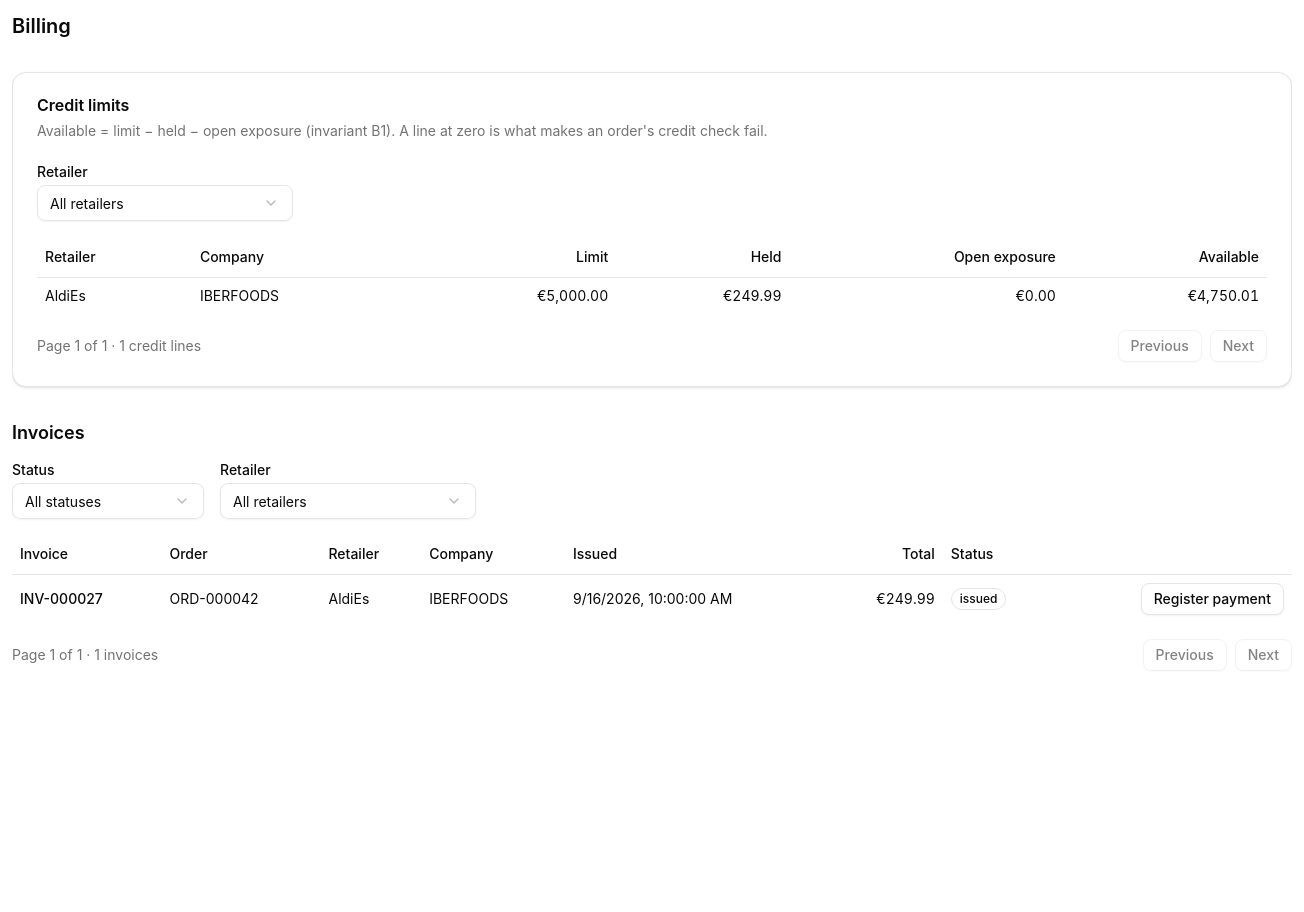
Test: BillingView — Register payment (R47/R48) › an accepted payment and a duplicate replay are rendered DIFFERENTLY, each saying what happened
Click the button with test id "register-payment-button": (1212, 599) x1=1141 y1=583 x2=1284 y2=615
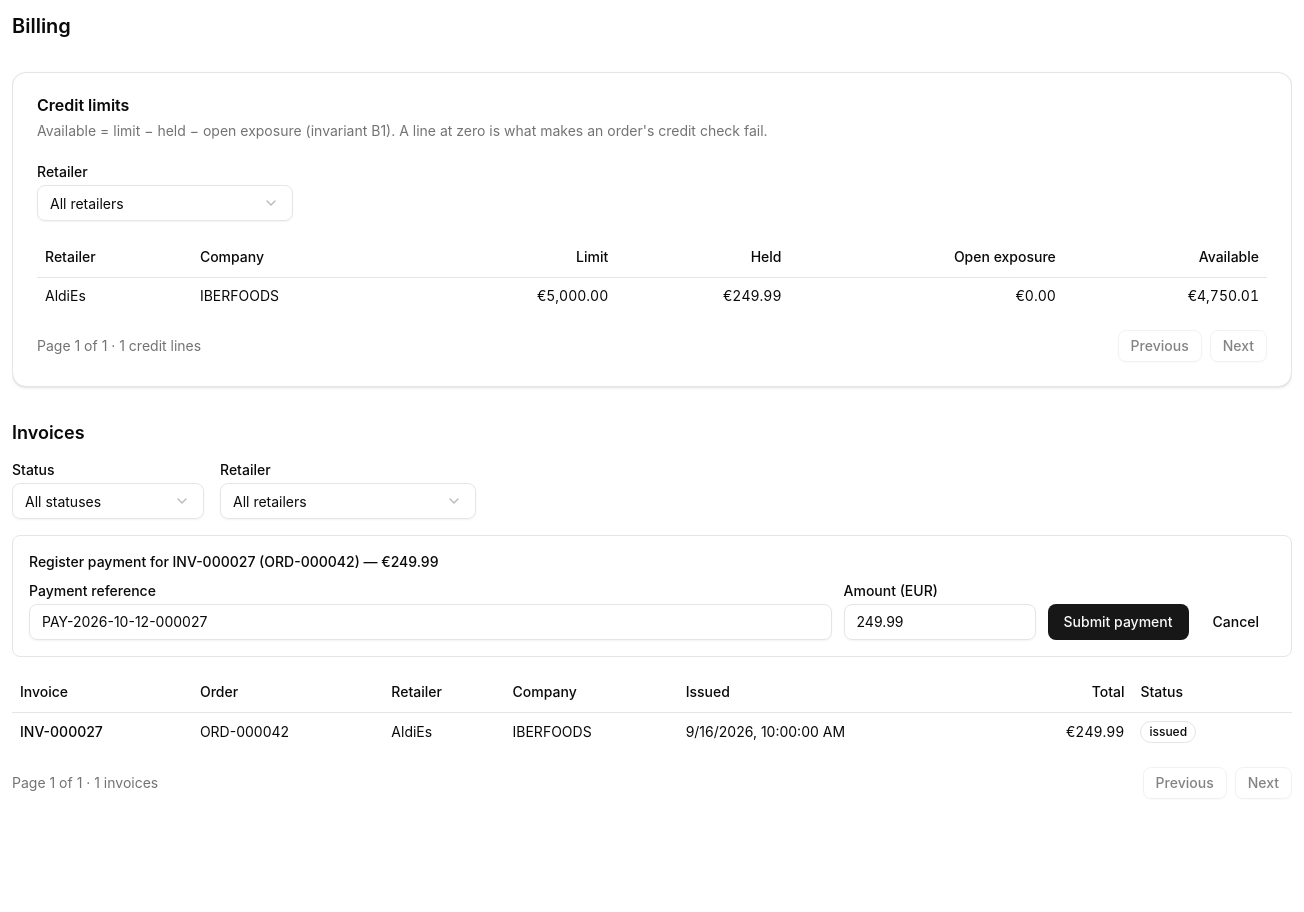
Click the button with test id "submit-payment-button": (1118, 622) x1=1048 y1=604 x2=1188 y2=640
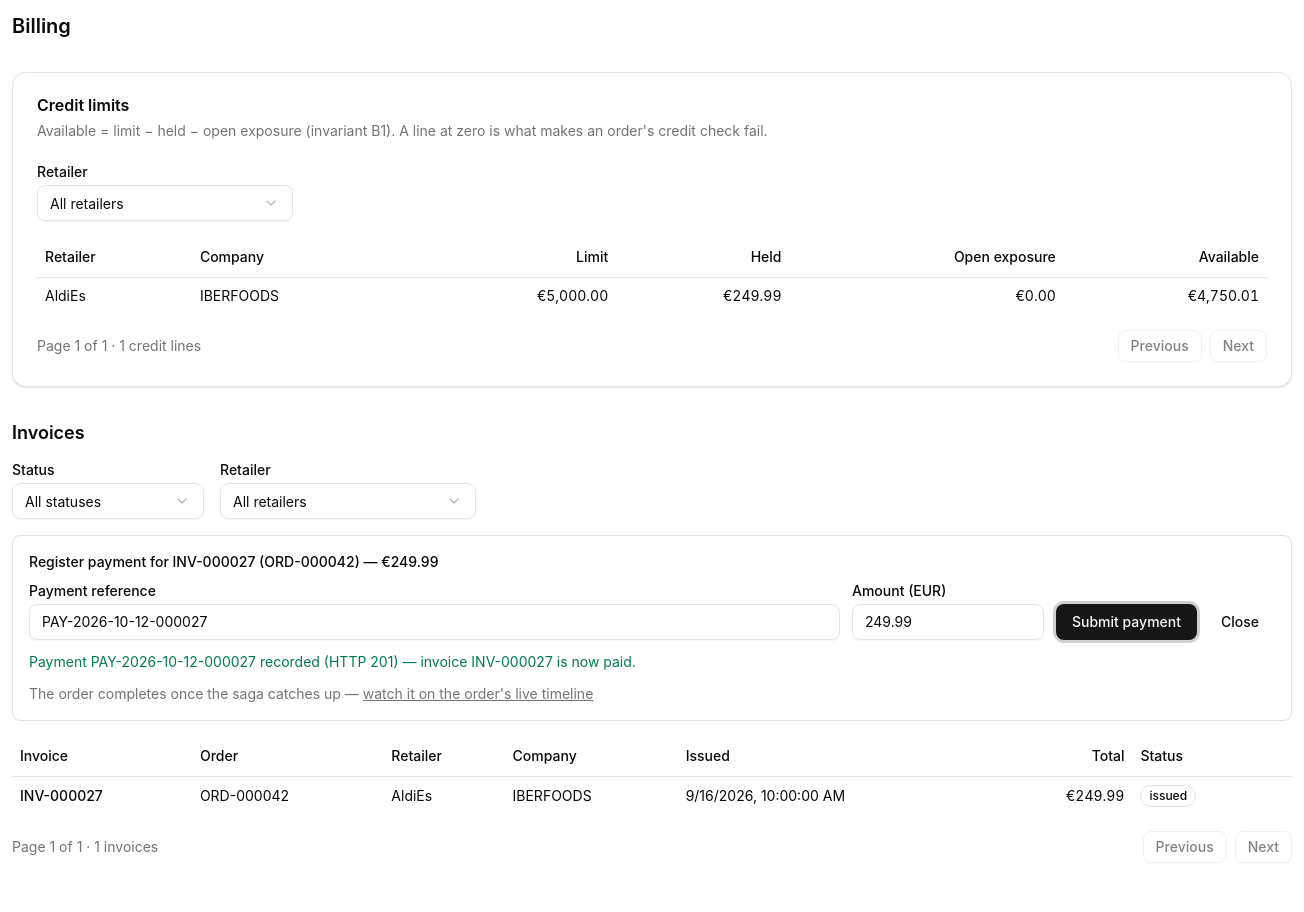
Expected: the text with test id "payment-outcome-accepted" shows "recorded (HTTP 201) — invoice INV-000027 is now paid", x1=29 y1=652 x2=636 y2=670
Click the button with test id "submit-payment-button": (1126, 622) x1=1056 y1=604 x2=1197 y2=640
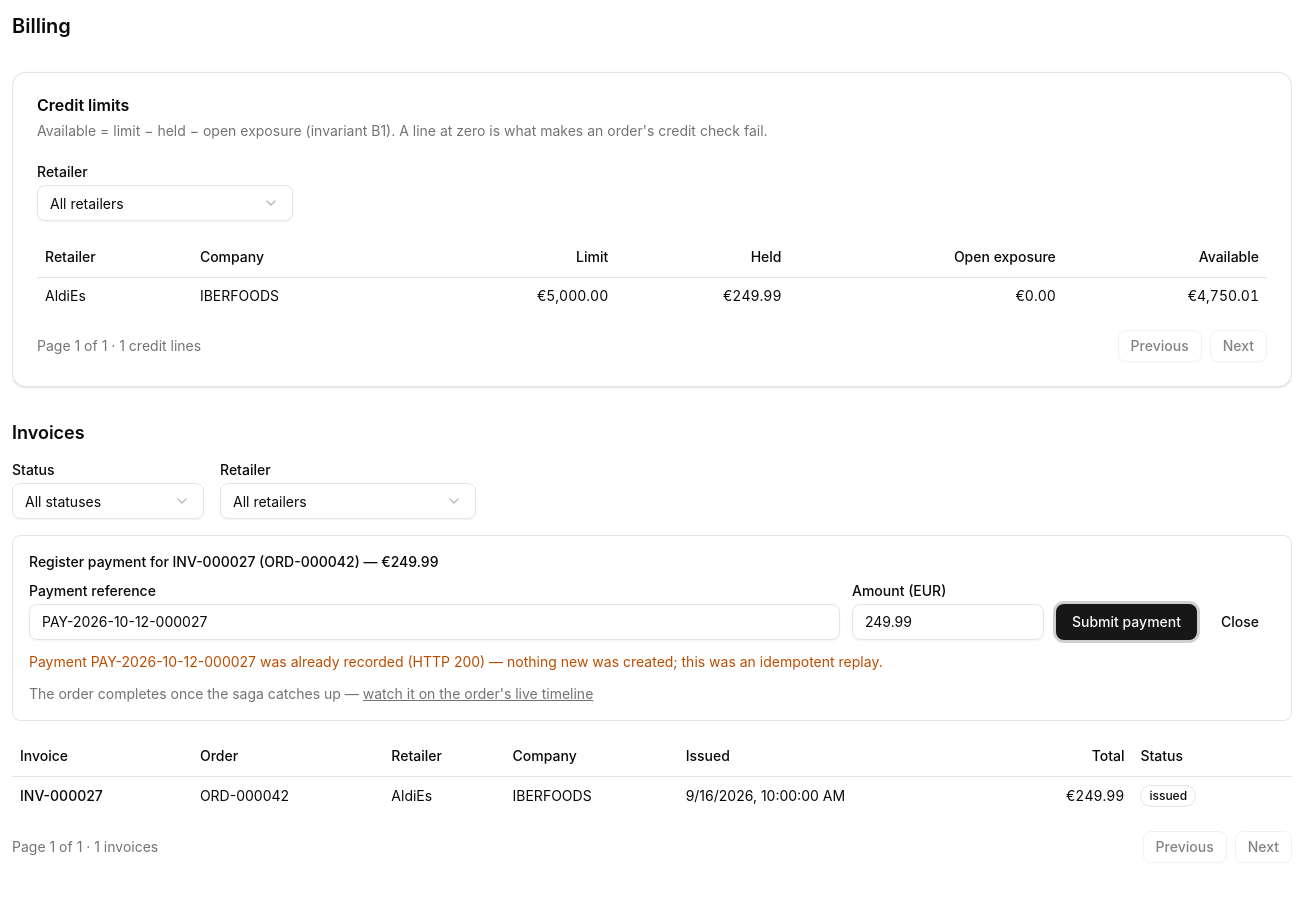
Expected: the text with test id "payment-outcome-duplicate" shows "was already recorded (HTTP 200) — nothing new was created", x1=29 y1=652 x2=883 y2=670
